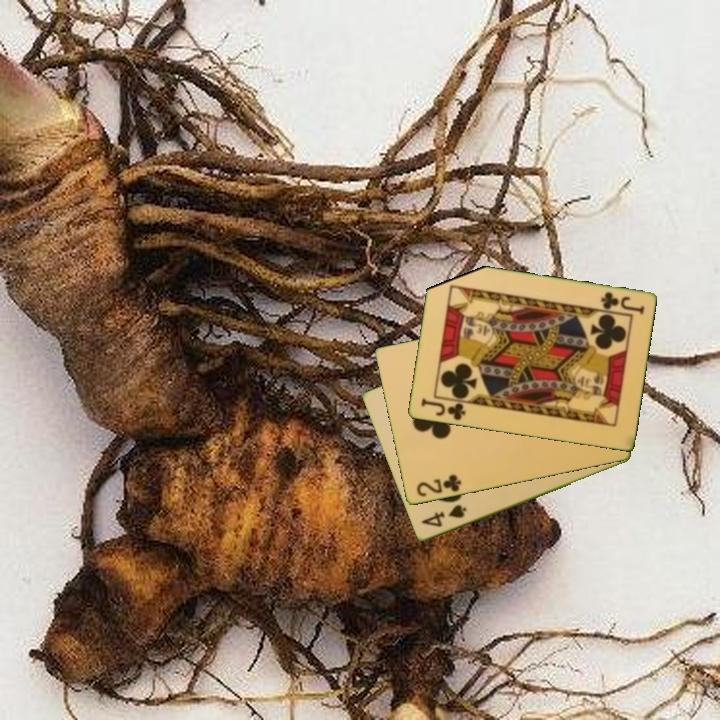2c: (413, 471, 464, 500)
4s: (417, 501, 469, 530)
Jc: (597, 288, 647, 317), (417, 395, 468, 423)
